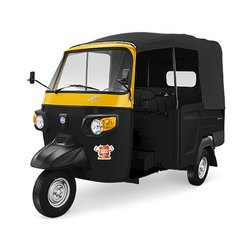auto: (22, 26, 233, 216)
